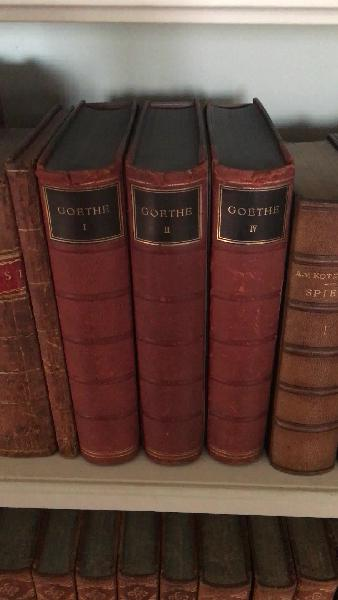Aa6-10: (2, 155, 84, 455)
Aa6-11_13: (32, 157, 284, 470)
